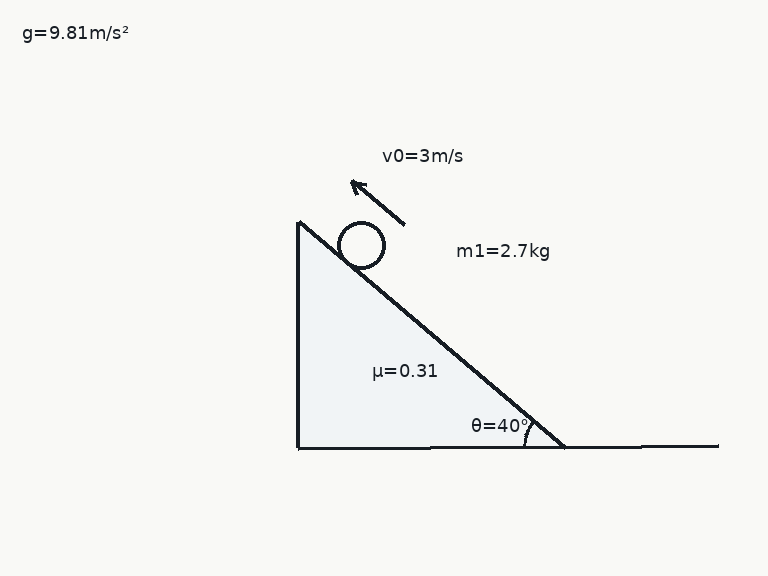ball: (335, 219, 387, 271)
ramp: (295, 221, 566, 449)
